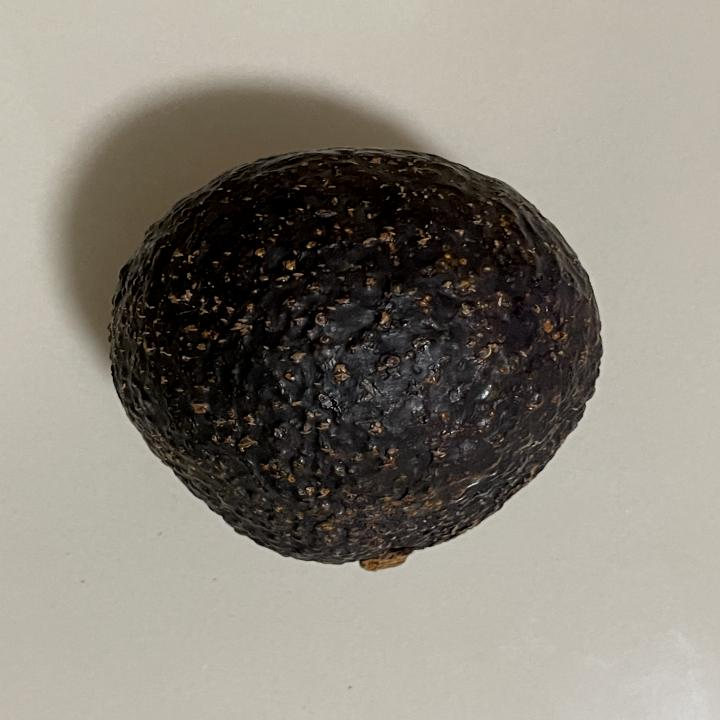Level3: (96, 138, 618, 580)
